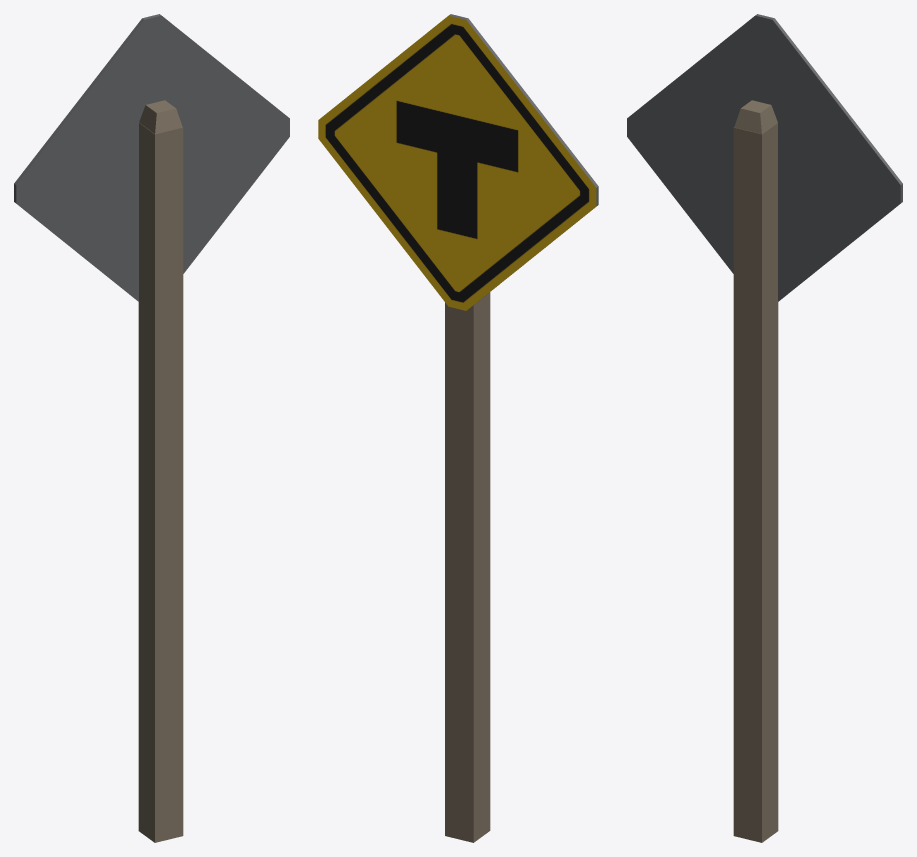
Rendered from sign-tee.glb.
3 renders of one model, left to right at view 1: azimuth 30°, elevation 25°; view 2: azimuth 150°, elevation 25°; view 3: azimuth 330°, elevation 25°, orthographic.
Visible parts, largest first — view 1: sign-tee; view 2: sign-tee; view 3: sign-tee.
Boxes of the visible parts, bbox=[...] form: sign-tee: bbox=[14, 14, 289, 842]; sign-tee: bbox=[318, 14, 598, 842]; sign-tee: bbox=[627, 14, 902, 842].
Size of the model in its own units: 0.8592 by 2.43 by 0.099.
Materials: 3 (1 with a texture image).
